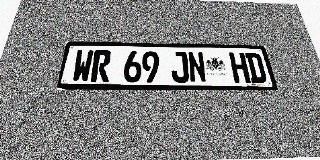6: (123, 51, 142, 82)
9: (142, 51, 159, 82)
D: (245, 53, 268, 83)
H: (229, 52, 251, 83)
J: (171, 51, 189, 83)
N: (187, 52, 207, 83)
R: (90, 50, 112, 82)
W: (71, 50, 94, 82)
